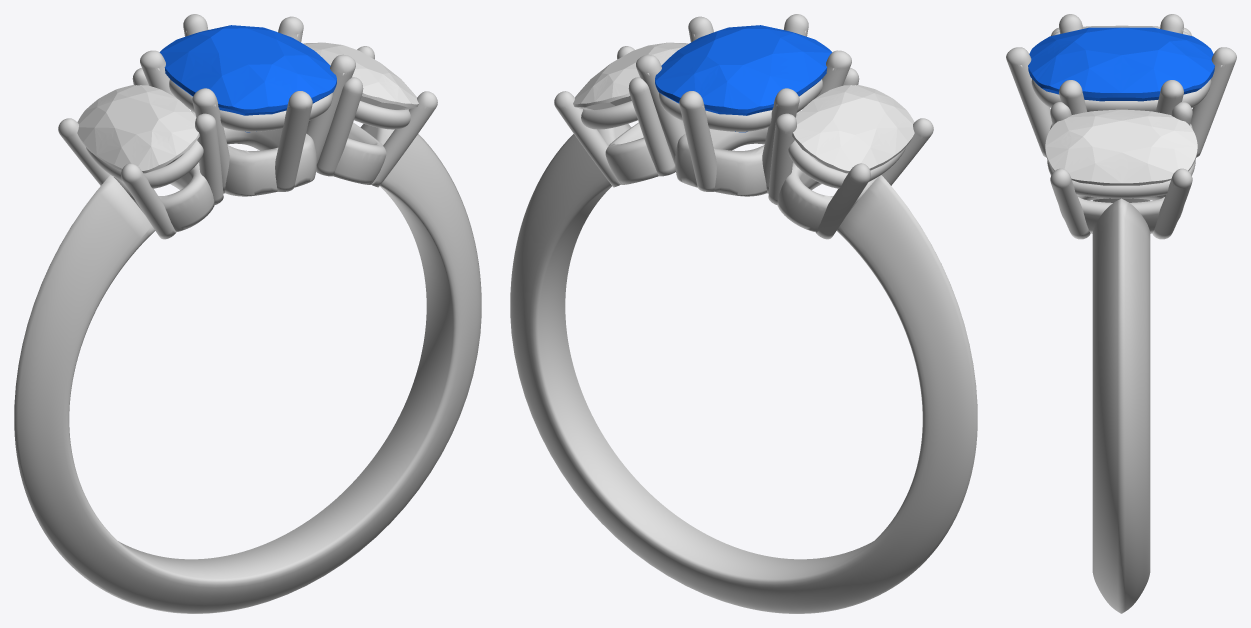
Rendered from bluesapphire-cushion-platinum-6prong-knifeedge-3stone.glb.
3 renders of one model, left to right at view 1: azimuth 30°, elevation 25°; view 2: azimuth 150°, elevation 25°; view 3: azimuth 270°, elevation 25°, orthographic. The views are drawn at different scales.
Parts seen in each view (by area): view 1: metal.003, stone.002, side.004, side.005; view 2: metal.003, stone.002, side.004, side.005; view 3: metal.003, stone.002, side.005.
Part boxes in pixels (<box>): metal.003: <box>14,14,481,613</box>; stone.002: <box>159,25,336,132</box>; side.004: <box>77,85,199,173</box>; side.005: <box>303,42,418,109</box>; metal.003: <box>510,14,977,613</box>; stone.002: <box>655,25,832,132</box>; side.004: <box>792,85,914,173</box>; side.005: <box>573,42,688,110</box>; metal.003: <box>1006,14,1236,613</box>; stone.002: <box>1028,27,1214,101</box>; side.005: <box>1045,109,1197,185</box>.
Size of the model in its own units: 20.1 by 23.03 by 8.8.
